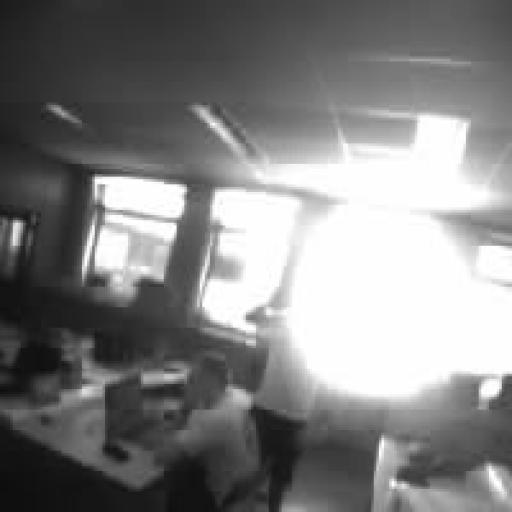human: (157, 351, 258, 511), (246, 305, 317, 511)
